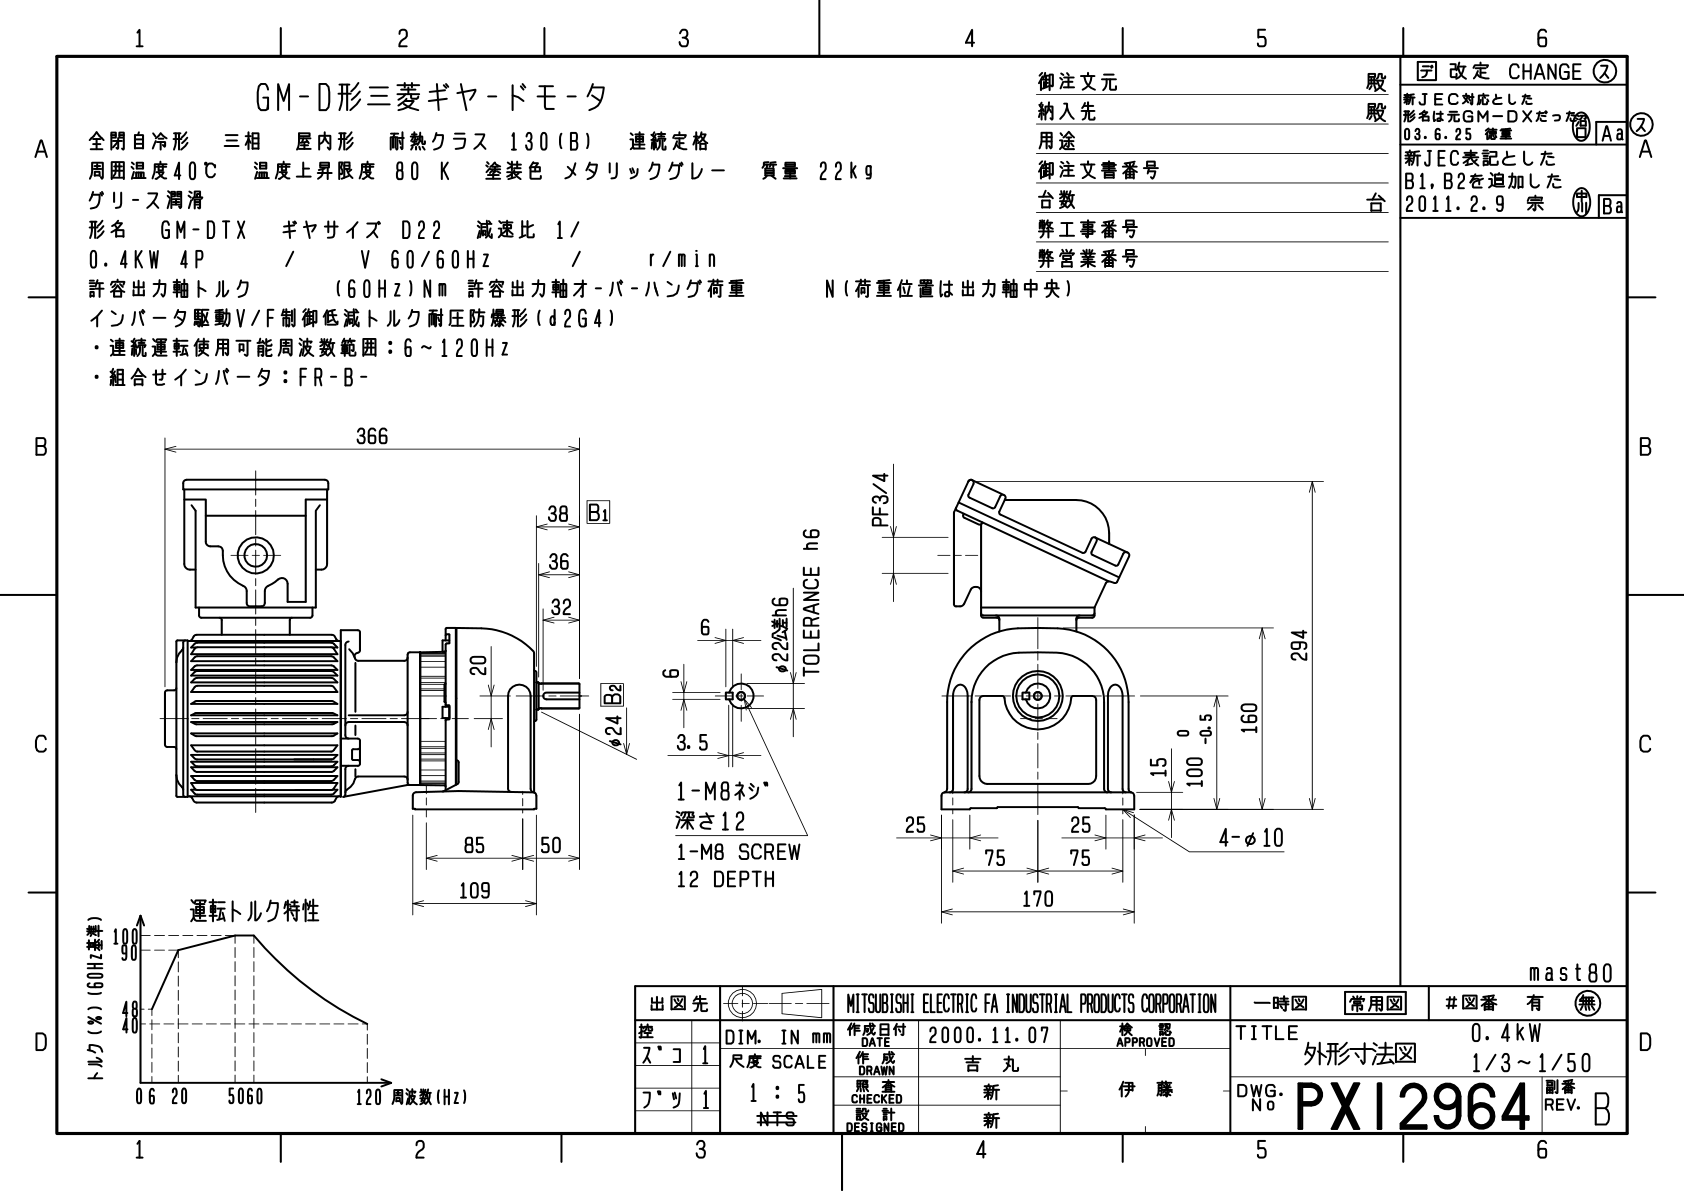GM_D_制御屋内_三相_脚: (10, 10, 1684, 1191)
